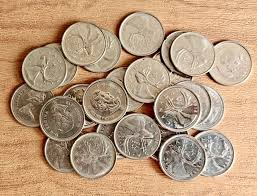coin: (159, 134, 205, 180), (154, 85, 200, 131), (114, 113, 160, 158), (124, 57, 169, 102), (70, 133, 115, 178), (39, 96, 84, 140), (83, 79, 127, 123), (119, 12, 163, 55), (170, 32, 214, 75), (61, 22, 105, 65), (22, 47, 65, 91), (210, 41, 251, 84), (11, 84, 52, 126), (196, 130, 233, 175), (83, 29, 120, 71), (64, 84, 88, 109), (107, 67, 126, 88)
